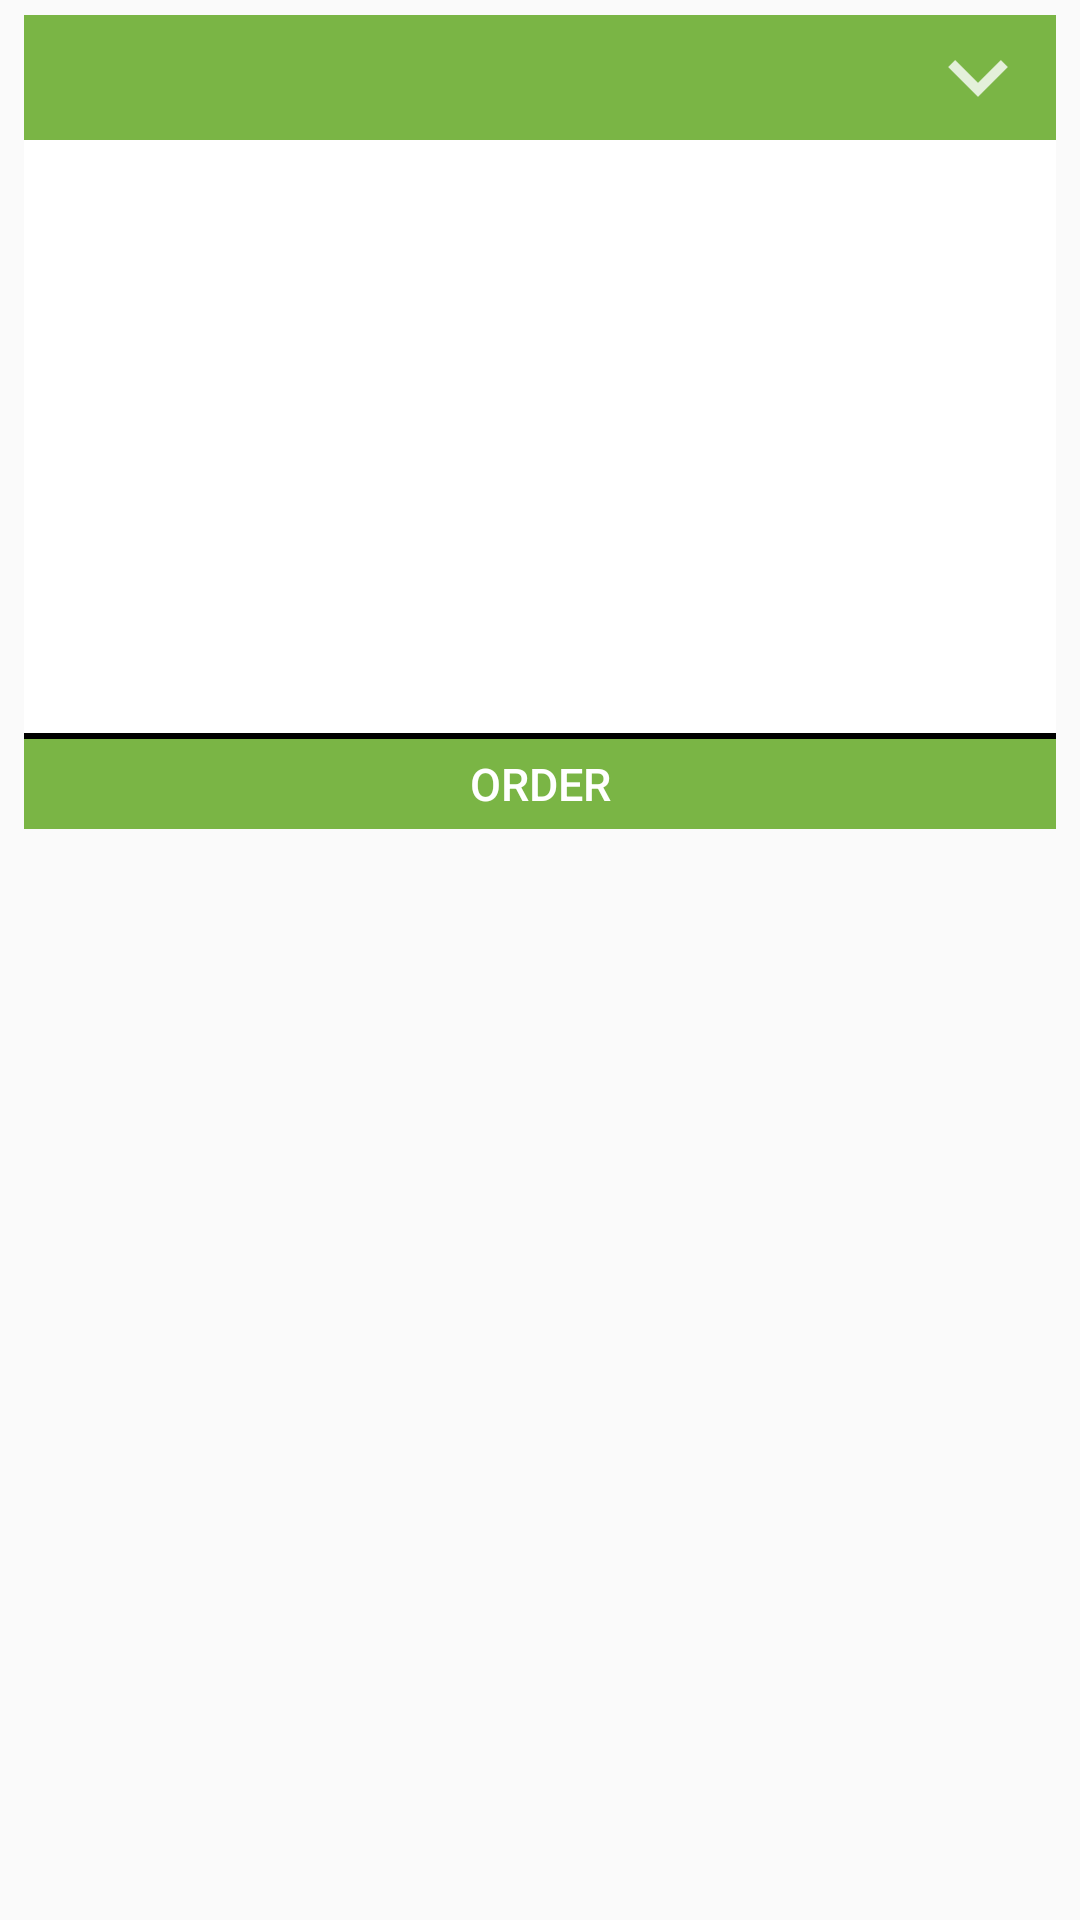

Point at icon controls on the screen. Image size 1080 x 1920, points as (x,y).
down arrow: (978,78)
